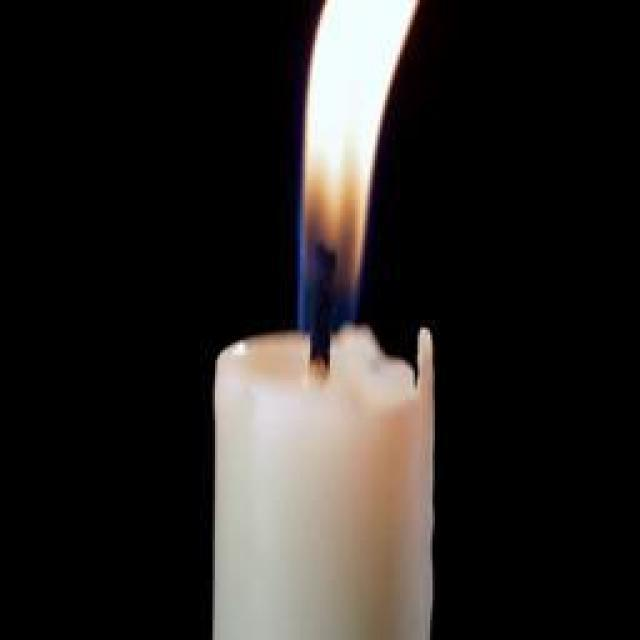Fire: (298, 0, 418, 330)
